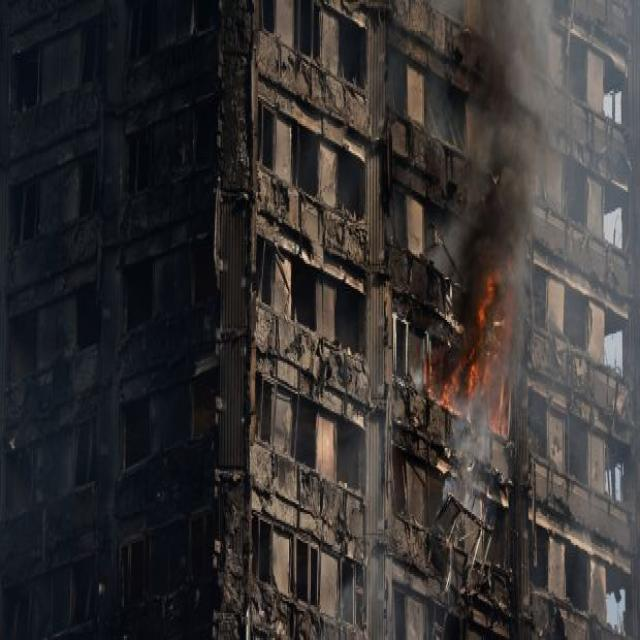Fire: (435, 338, 488, 402)
Smoke: (452, 0, 564, 262), (450, 415, 484, 498)
